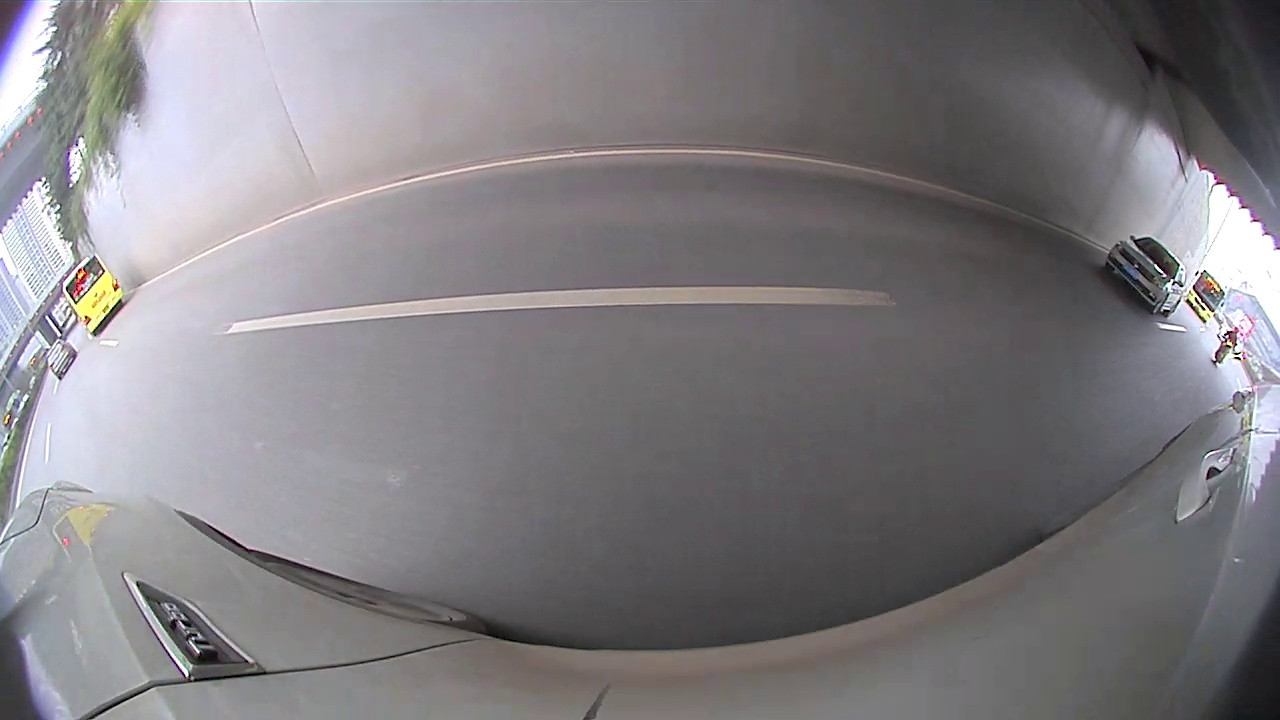bus: (60, 251, 125, 336), (1185, 266, 1223, 319)
car: (1104, 235, 1184, 317), (46, 341, 77, 380)
front: (1149, 294, 1167, 317), (1099, 260, 1116, 278)
rider: (1209, 327, 1243, 363)
